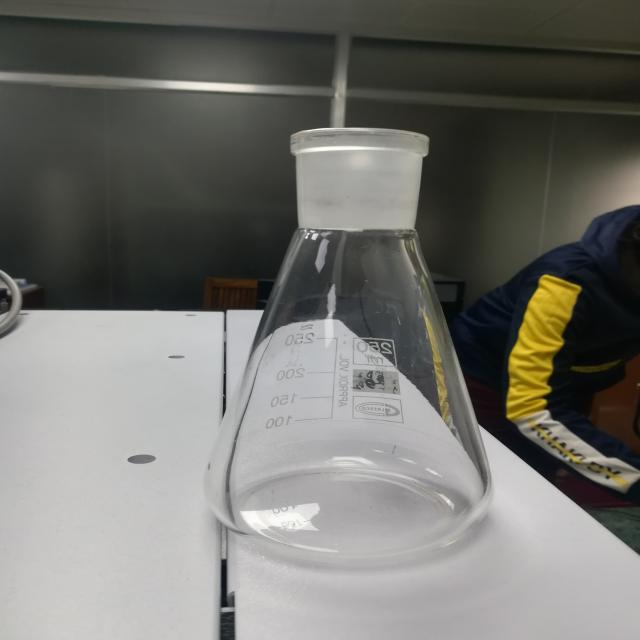Conical_Flask: (196, 73, 513, 574)
